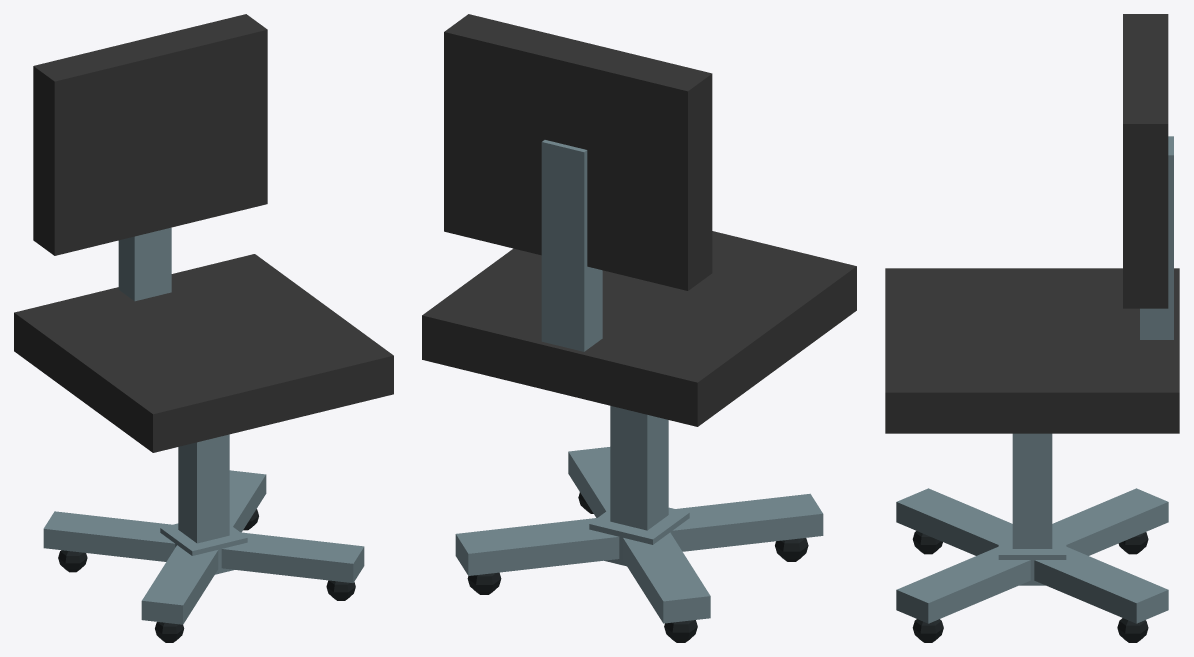
The model's file is CompChair.fbx.
The picture shows the model from 3 angles, left to right: view 1: azimuth 30°, elevation 25°; view 2: azimuth 150°, elevation 25°; view 3: azimuth 270°, elevation 25°; orthographic projection. The views are drawn at different scales.
Visible parts, largest first — view 1: CompChair; view 2: CompChair; view 3: CompChair.
Part boxes in pixels (<box>): CompChair: <box>14,14,393,642</box>; CompChair: <box>422,14,856,642</box>; CompChair: <box>885,14,1179,642</box>.
Bounding box in the file's own units: 0.52 × 0.52 × 1.03.
